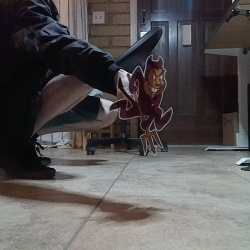sparky: (108, 53, 173, 155)
